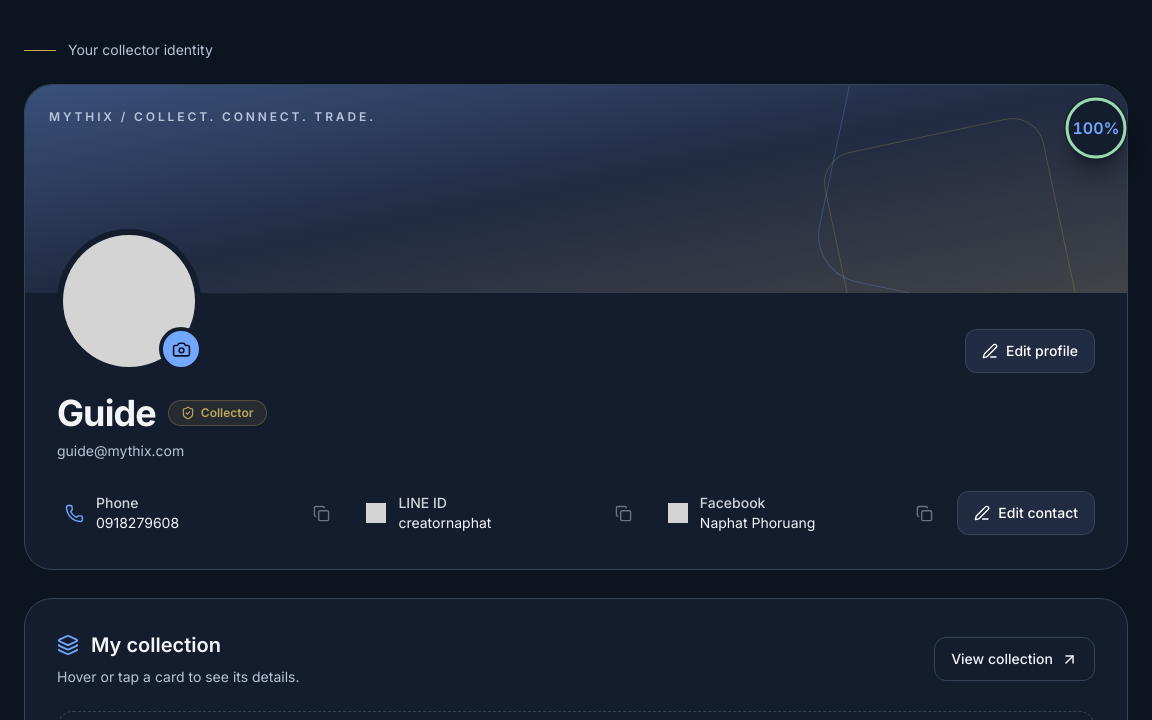
Test: ProfilePage editors › loads the current avatar into the editor without choosing a new file
This screenshot has width=1152, height=720.
Click the button named "Change profile photo": {"x": 181, "y": 349} x1=159 y1=327 x2=203 y2=371
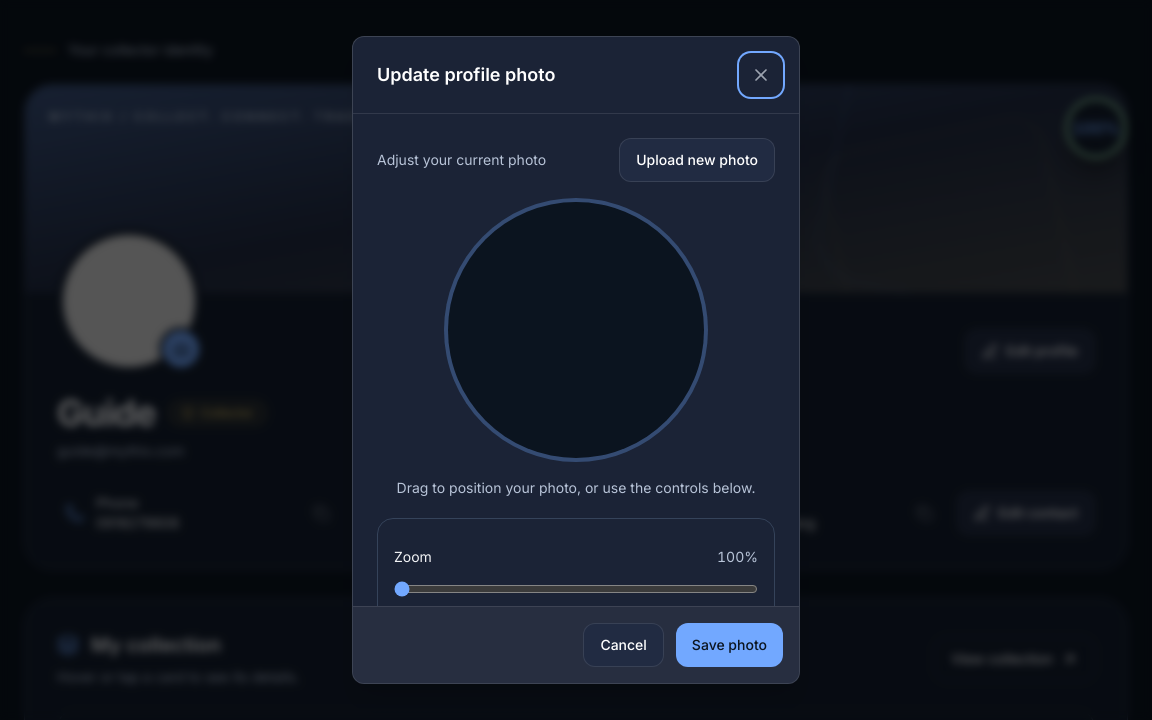
Check: the button "Save photo" is enabled, box x1=676 y1=623 x2=783 y2=667
Check: the text "Adjust your current photo" is shown, box x1=377 y1=150 x2=546 y2=170
